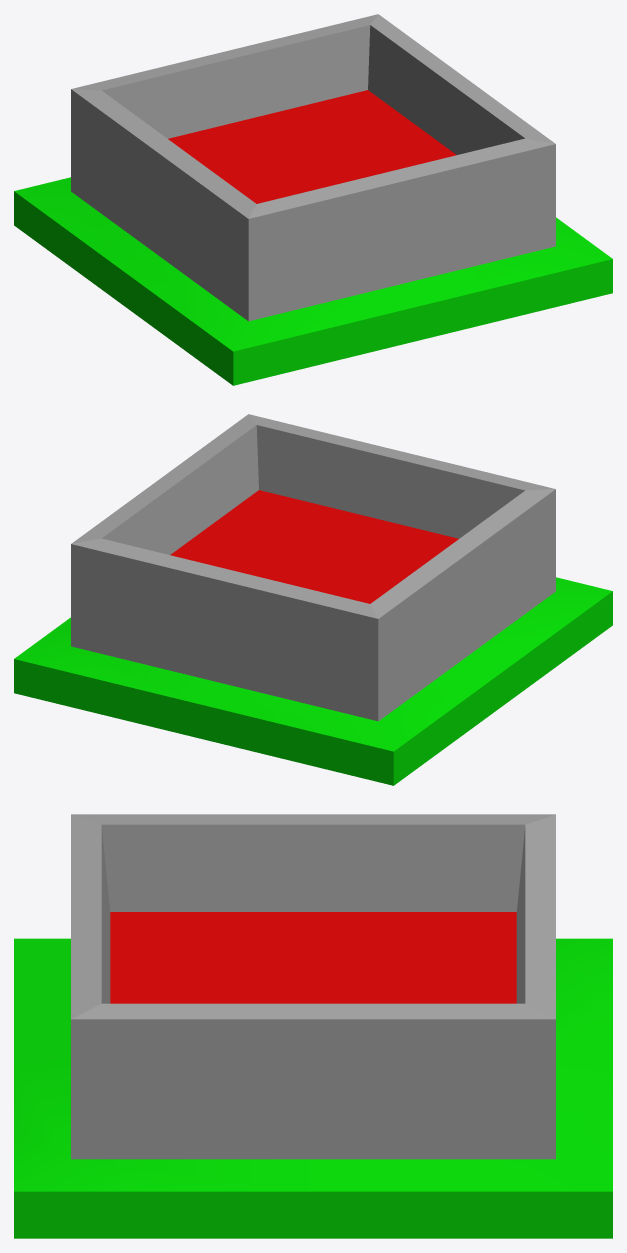
Rendered from lazerPoint.fbx.
3 views of the same model, one above another, from view 1: azimuth 30°, elevation 25°; view 2: azimuth 150°, elevation 25°; view 3: azimuth 270°, elevation 25° (orthographic). The views are drawn at different scales.
Parts seen in each view (by area): view 1: pCube1; view 2: pCube1; view 3: pCube1.
Part boxes in pixels (x1,y1,x2,y2): pCube1: (14,14,612,385); pCube1: (14,414,612,785); pCube1: (14,814,612,1238).
Size of the model in its own units: 1.84 by 0.6702 by 1.84.
